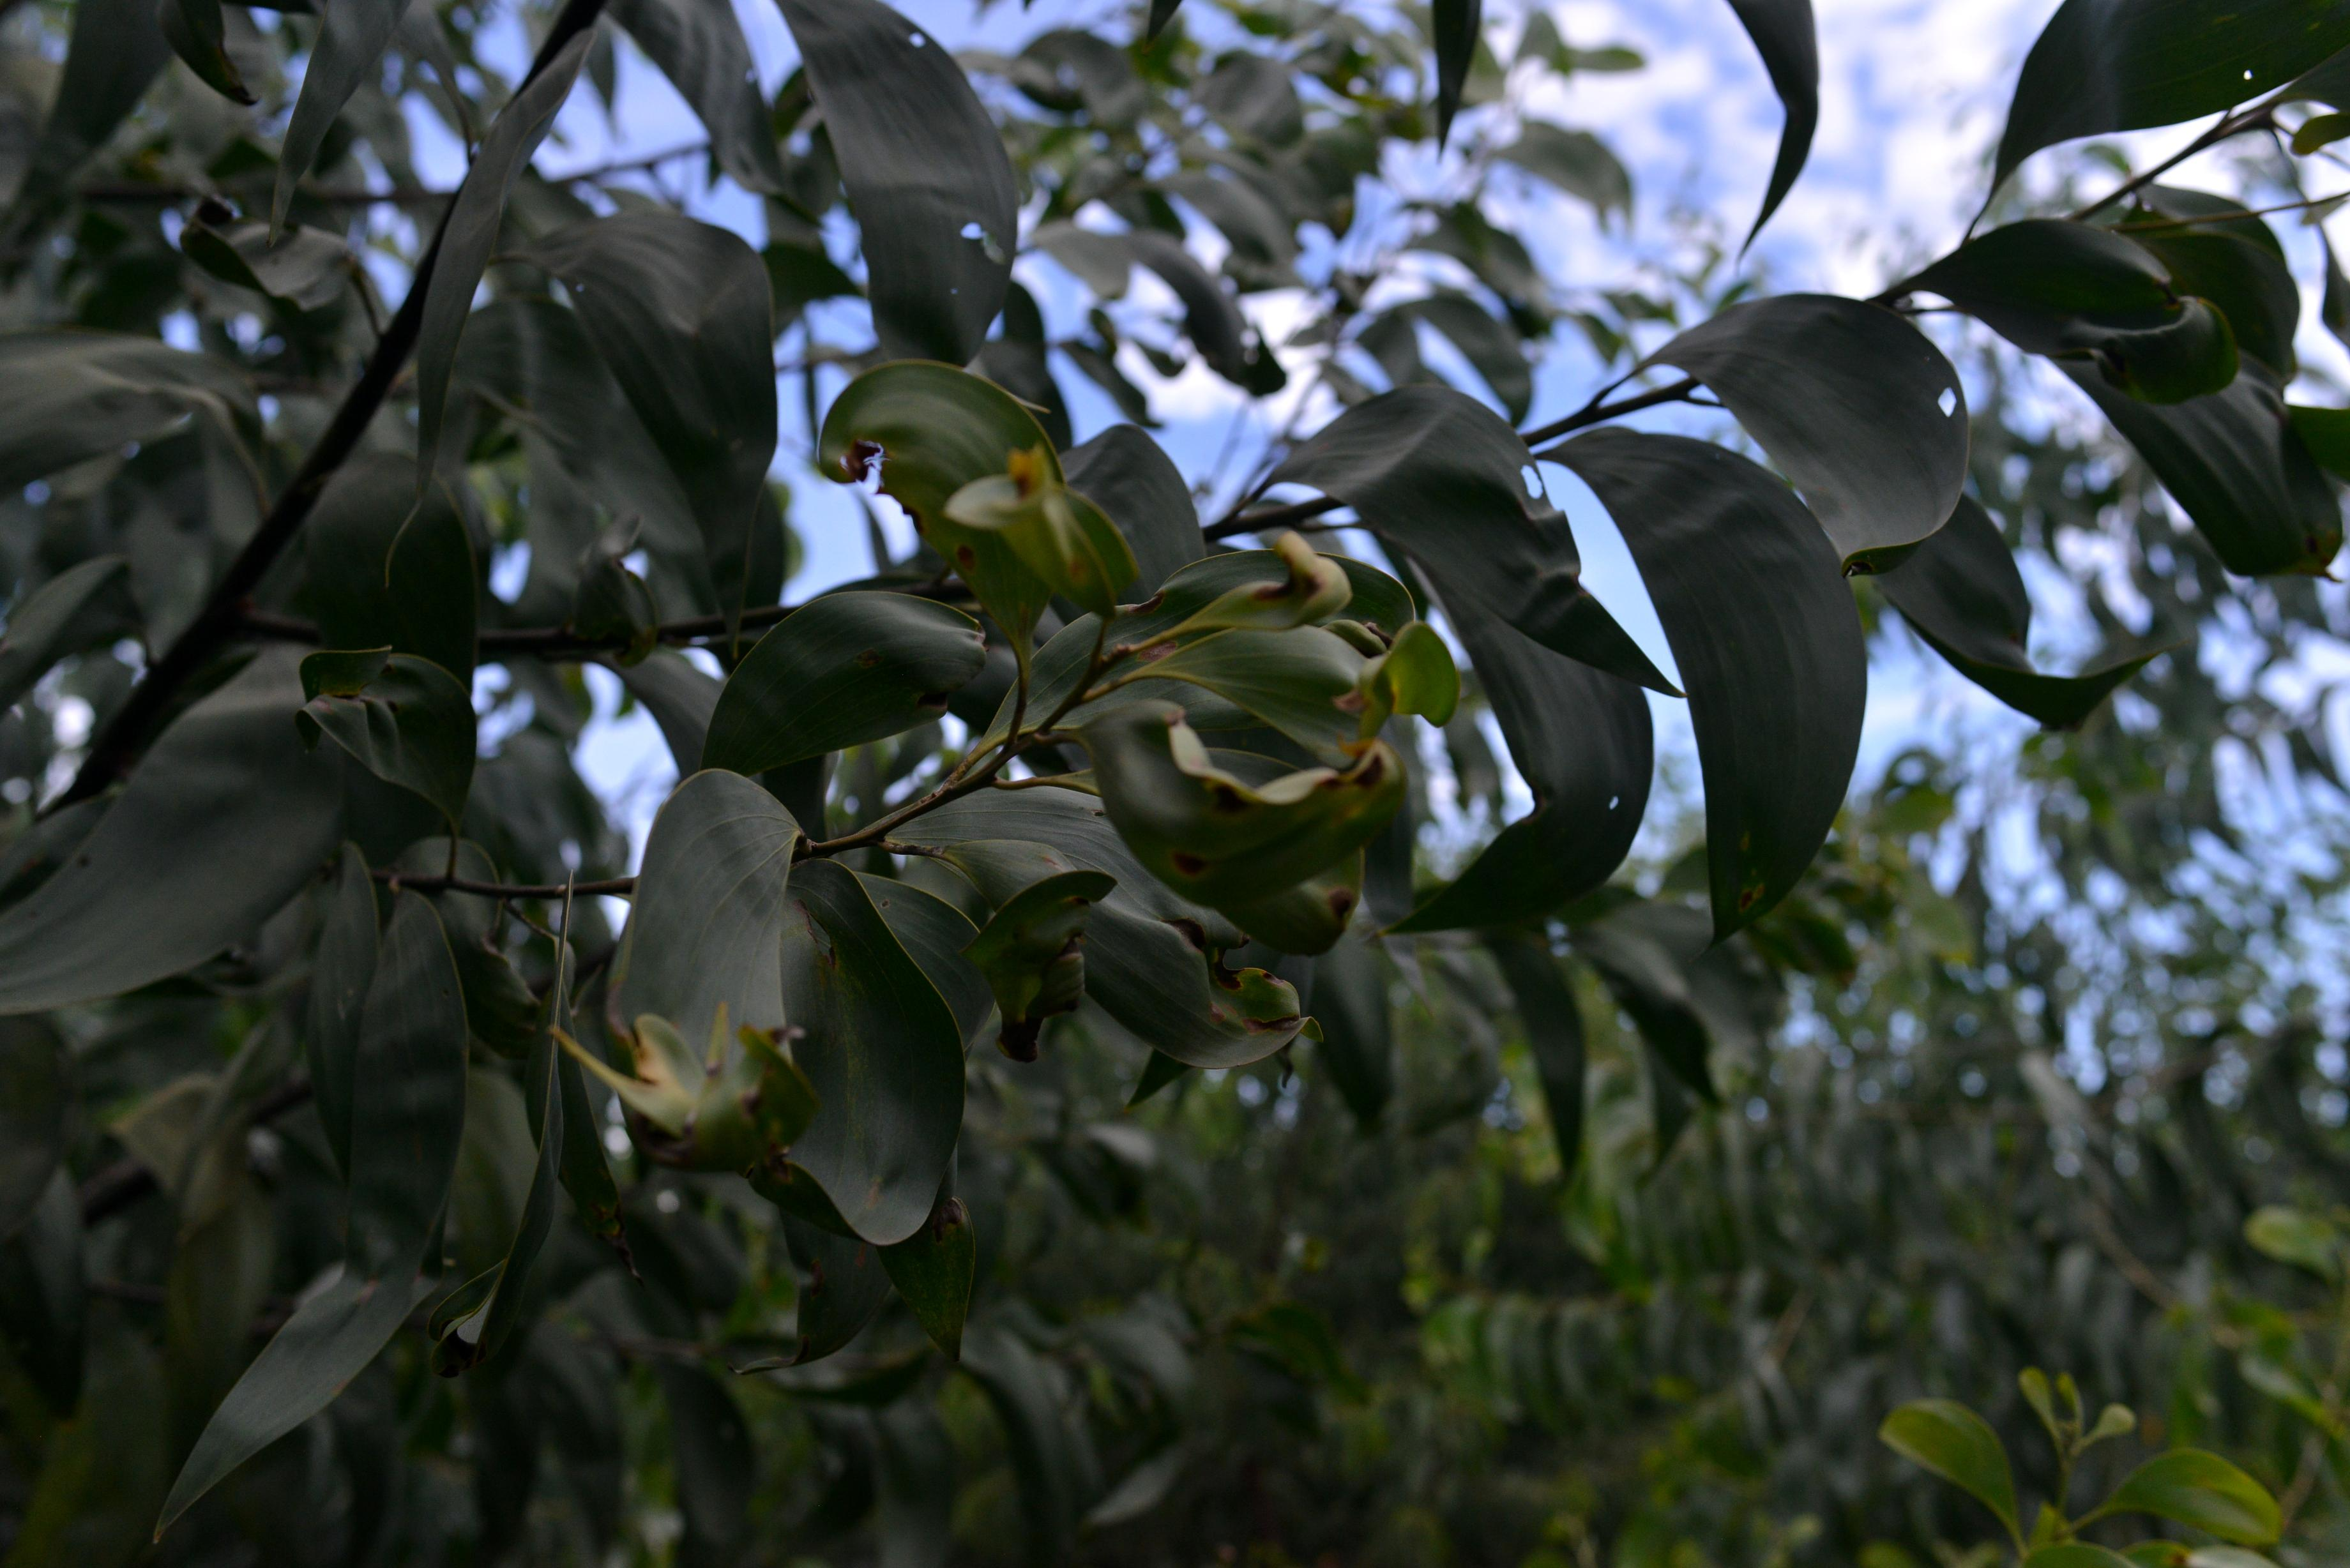Pasalora: (177, 891, 462, 1491), (518, 212, 784, 562), (1095, 747, 1444, 955), (1904, 234, 2245, 413), (530, 975, 819, 1174), (289, 619, 509, 850), (952, 429, 1129, 623), (1125, 525, 1365, 653), (1374, 614, 1473, 730)
